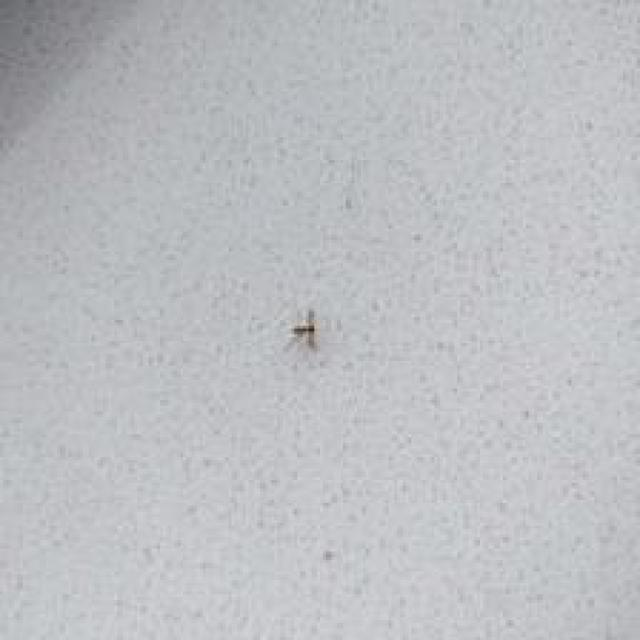Culex: (292, 309, 317, 337)
